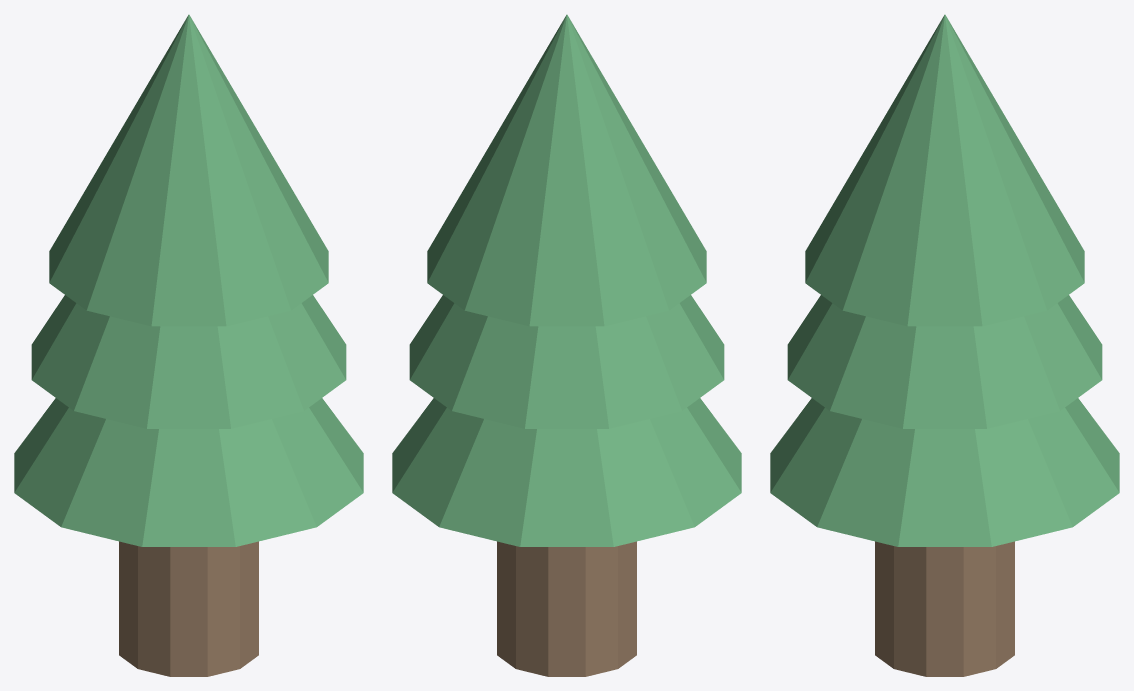
File: tree-evergreen.glb
The picture shows the model from 3 angles, left to right: view 1: azimuth 30°, elevation 25°; view 2: azimuth 150°, elevation 25°; view 3: azimuth 270°, elevation 25°; orthographic projection.
Parts seen in each view (by area): view 1: cone (×3), cylinder; view 2: cone (×3), cylinder; view 3: cone (×3), cylinder.
Boxes of the visible parts, bbox=[...] form: cone (×3): bbox=[14, 14, 363, 546]; cylinder: bbox=[119, 541, 258, 676]; cone (×3): bbox=[392, 14, 741, 546]; cylinder: bbox=[497, 541, 636, 676]; cone (×3): bbox=[770, 14, 1119, 546]; cylinder: bbox=[875, 541, 1014, 676].
Bounding box in the file's own units: 1.25 × 2.5 × 1.25.
